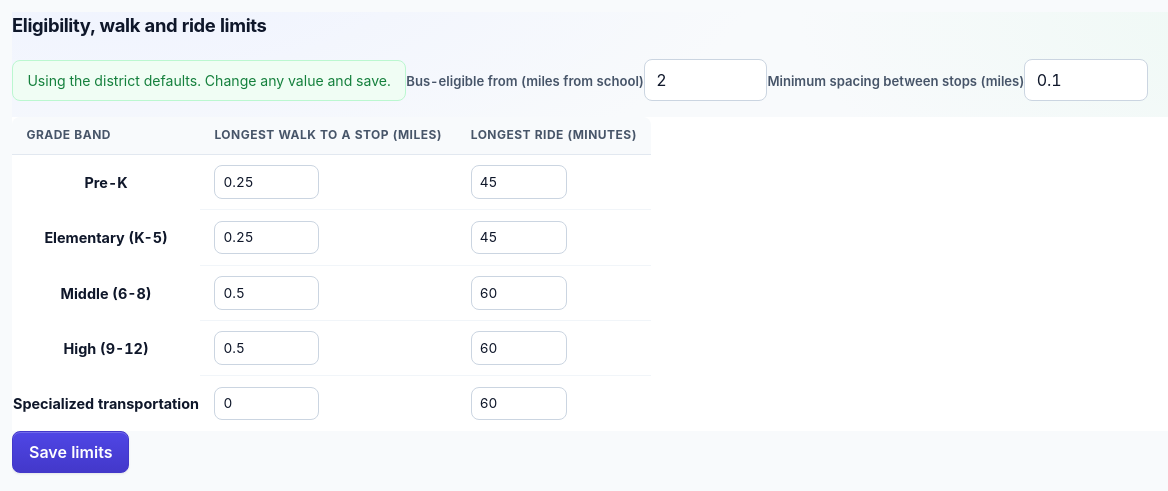
Test: TransportationRulesSection › shows the defaults and saves changed limits as numbers
This screenshot has width=1168, height=491.
Expected: the text "Using the district defaults. Change any value and save." is shown, [12,60,406,101]
Expected: the number field named "High (9-12) walk (miles)" holds "0.5", [214,332,319,365]
Replace the text in the number field named "Elementary (K-5) ride (minutes)" with "40" at coordinates (519, 238), box [471,221,567,254]
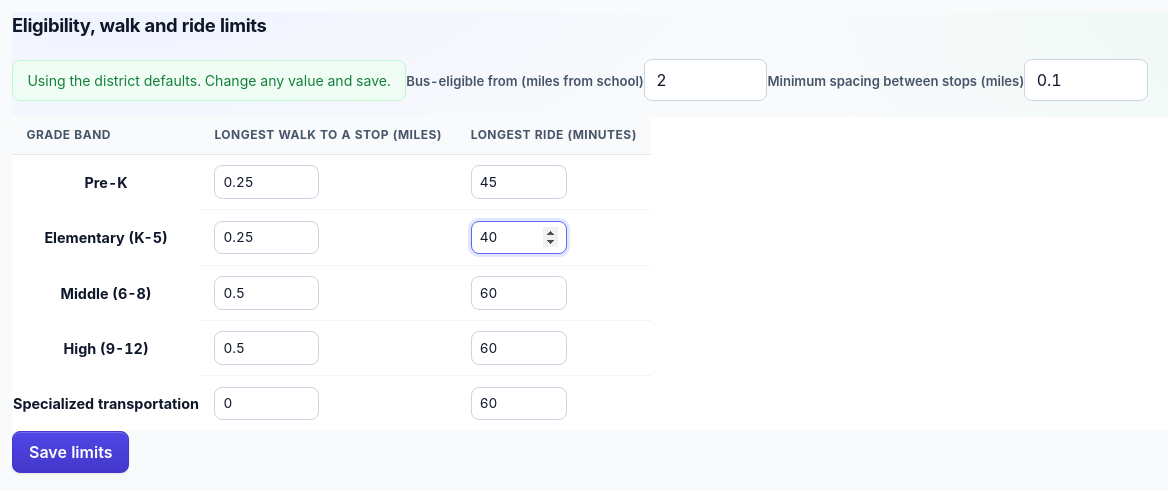
Replace the text in the number field labelled "Minimum spacing between stops (miles)" with "0.2" at coordinates (1086, 80), box [1024,59,1148,101]
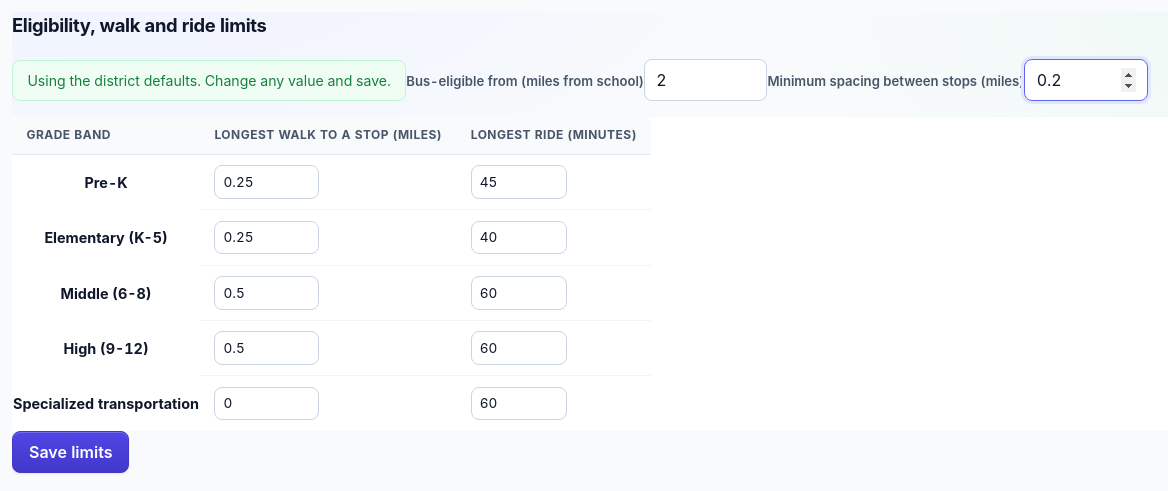
Click the button "Save limits" at coordinates (71, 452), box [12,431,130,473]
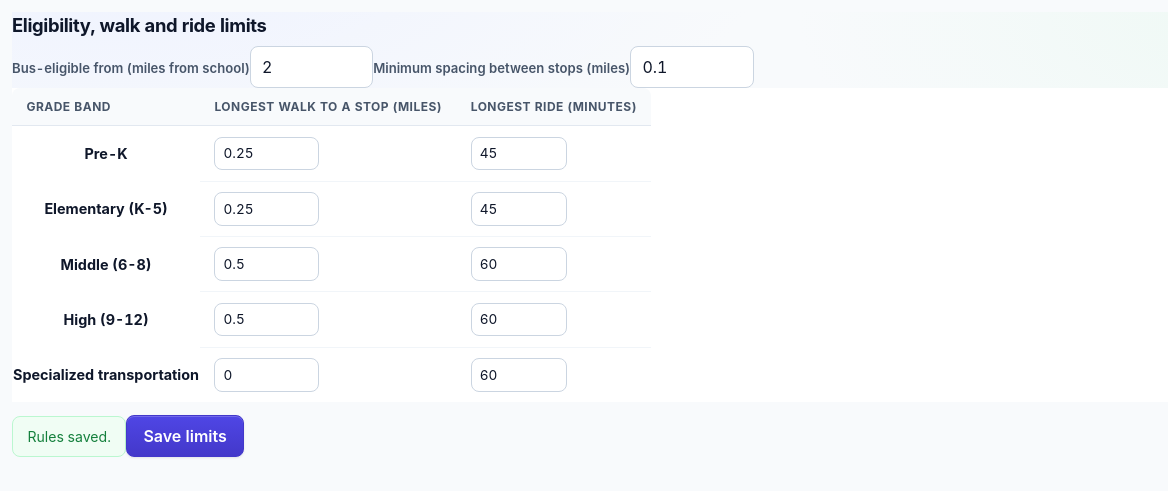
Expected: the text "Rules saved." is shown, [12,416,126,457]
